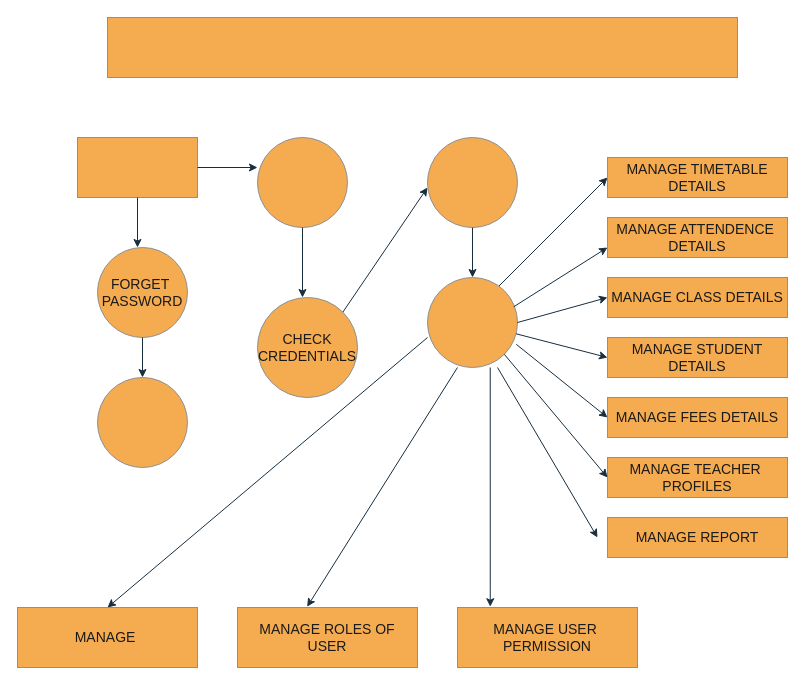
Some shapes in this 805 by 685 pixel diagram are drawn without their labels. Each missing label, with the centre of its shape:
ADMIN: [137,167]
CHECK ROLES OF ACCESS: [472,182]
LOGIN FOR SYSTEM: [302,182]
MANAGE MODULES: [472,322]
SEND EMAIL TO USER: [142,422]
STUDENT INFORMATION SYSTEM: [422,47]
